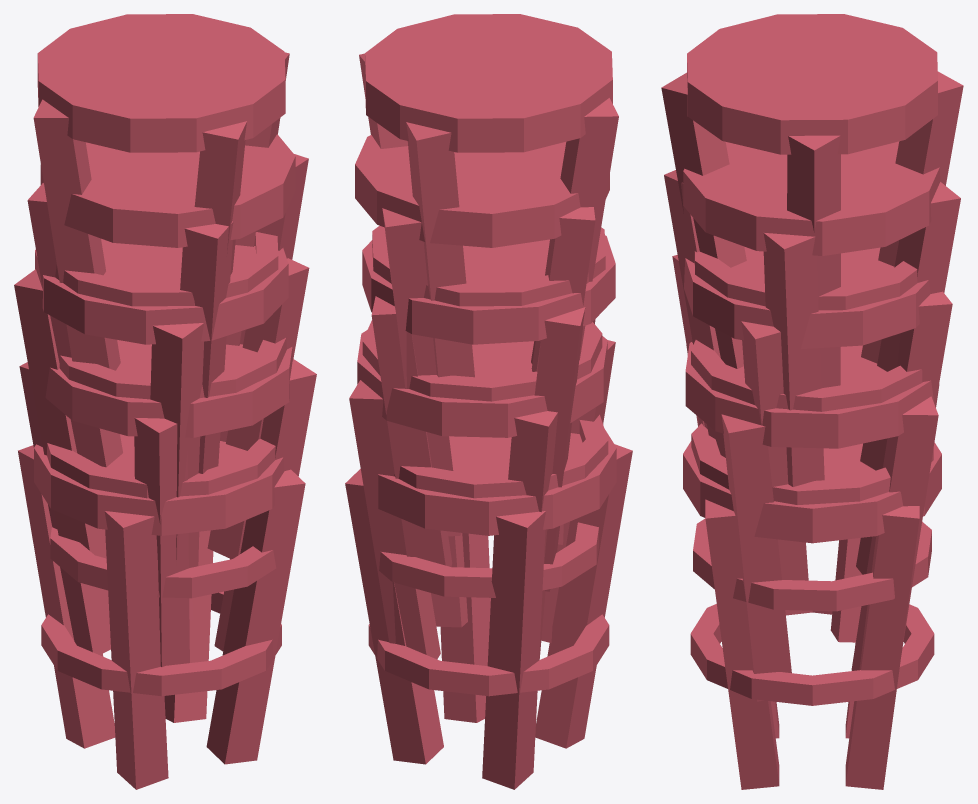
Rendered from indian-bazaar-street-and-temple-plastic-stool-stack-848c2b39__36566.glb.
The picture shows the model from 3 angles, left to right: view 1: azimuth 30°, elevation 25°; view 2: azimuth 150°, elevation 25°; view 3: azimuth 270°, elevation 25°; orthographic projection.
Parts seen in each view (by area): view 1: plastic-stool-stack-crimson; view 2: plastic-stool-stack-crimson; view 3: plastic-stool-stack-crimson.
Part boxes in pixels (bbox=[...]): plastic-stool-stack-crimson: bbox=[14, 14, 316, 789]; plastic-stool-stack-crimson: bbox=[345, 14, 632, 789]; plastic-stool-stack-crimson: bbox=[661, 14, 963, 789].
Bounding box in the file's own units: 0.4032 × 1 × 0.3966.
